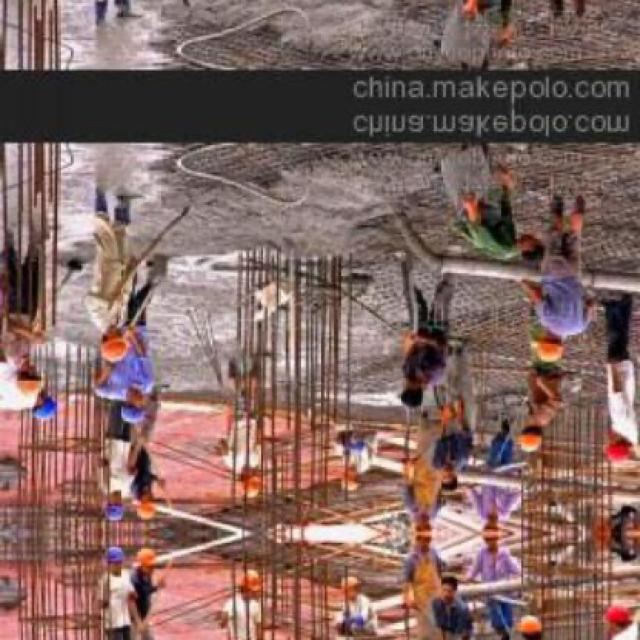con casco: (524, 334, 614, 369), (89, 323, 145, 368), (12, 358, 50, 420), (16, 387, 65, 428), (106, 412, 162, 445), (516, 416, 554, 462)
sin casco: (412, 422, 516, 488), (383, 360, 457, 418), (478, 221, 552, 273)
